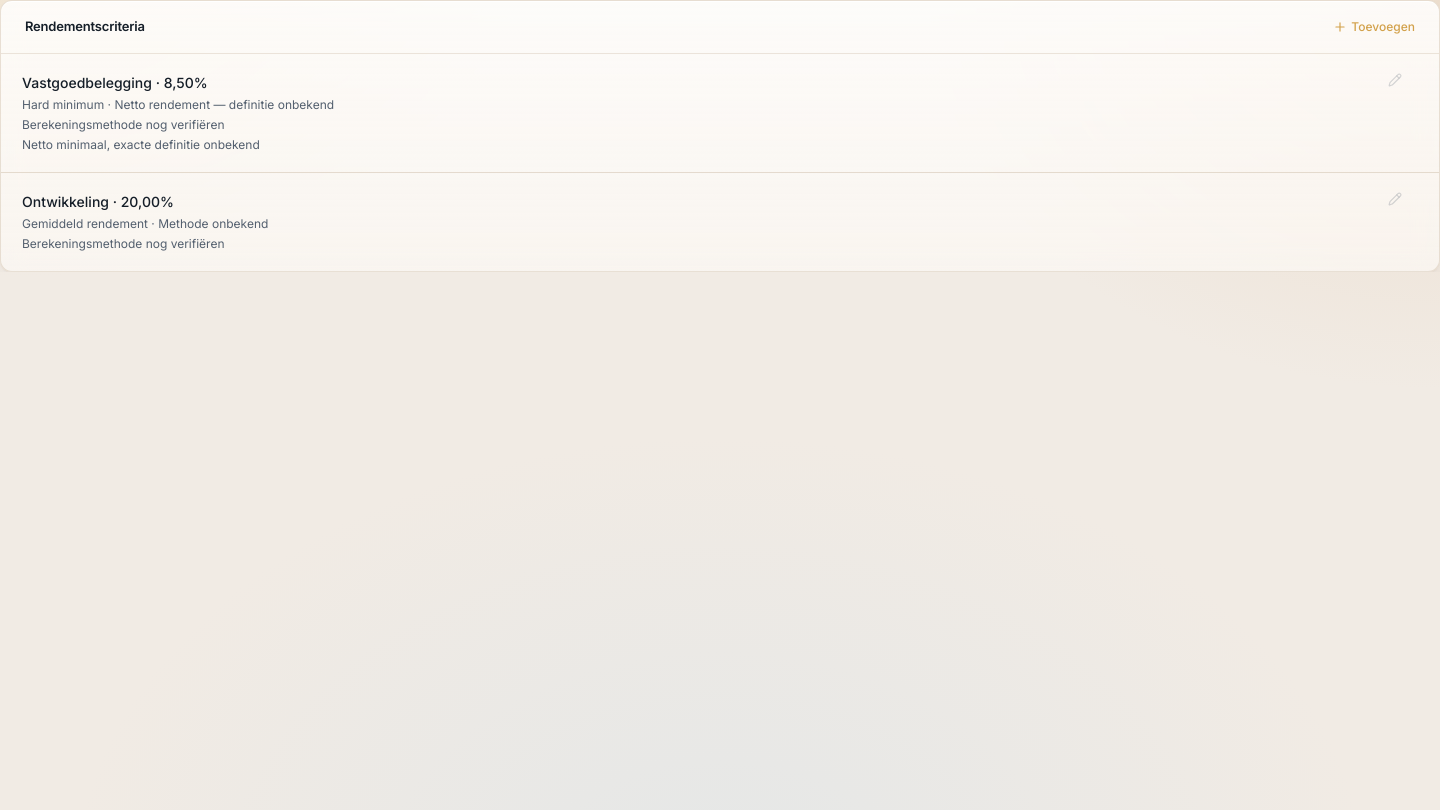
Test: Rendementscriteria: klik de criteriumwaarde rechtstreeks › opent het netto minimum zonder de onzekere methode als bevestigd te markeren
Click the button with aria-label "Wijzig rendementscriterium Vastgoedbelegging, 8,50%": (87, 82) 13,66 -> 1411,160
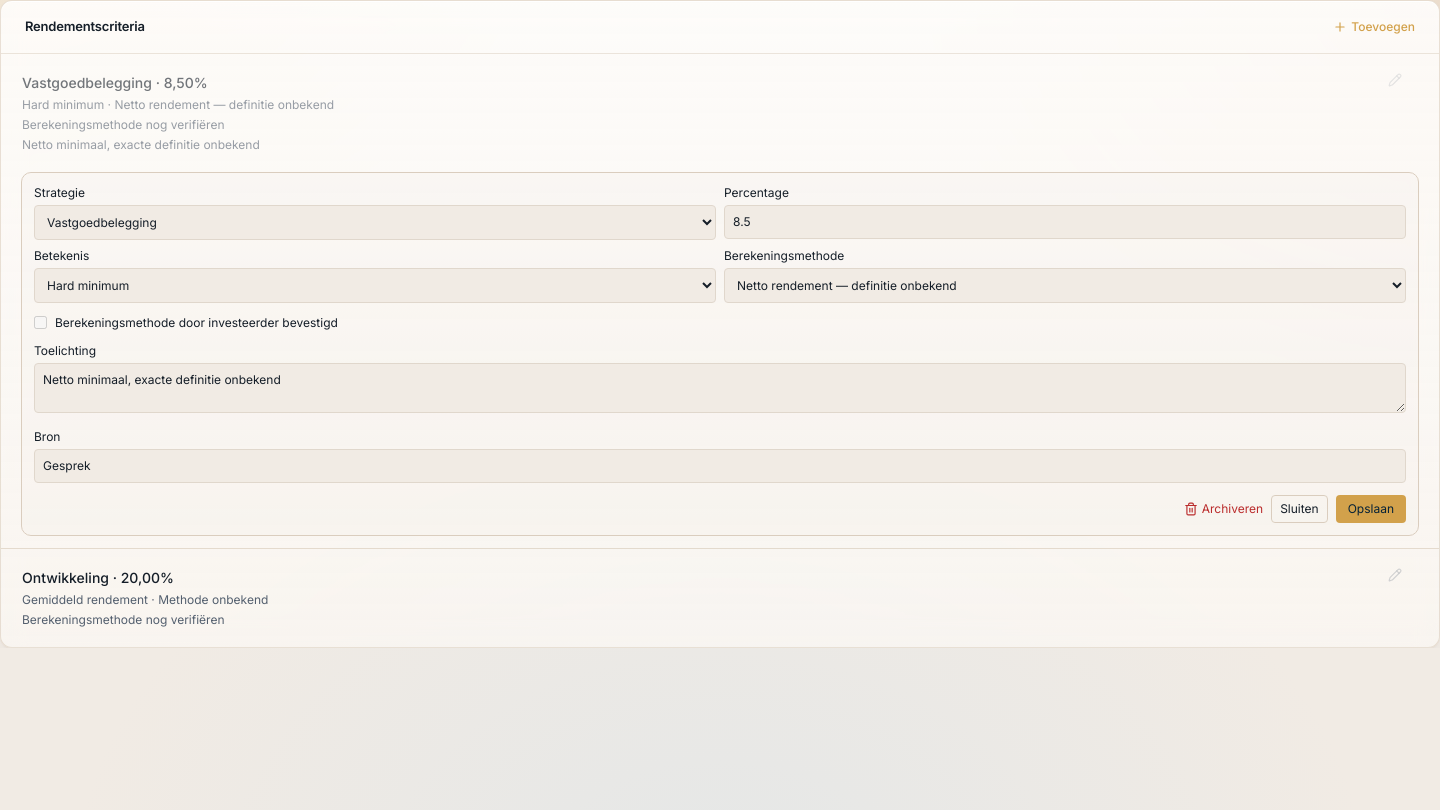
Expected: the text "Berekeningsmethode nog verifiëren" is shown 2 times, 22,116 -> 224,132; 22,612 -> 224,626
Expected: the dropdown labelled "Berekeningsmethode" shows "Netto rendement — definitie onbekend", 724,268 -> 1406,302
Expected: the dropdown labelled "Betekenis" shows "Hard minimum", 34,268 -> 716,302
